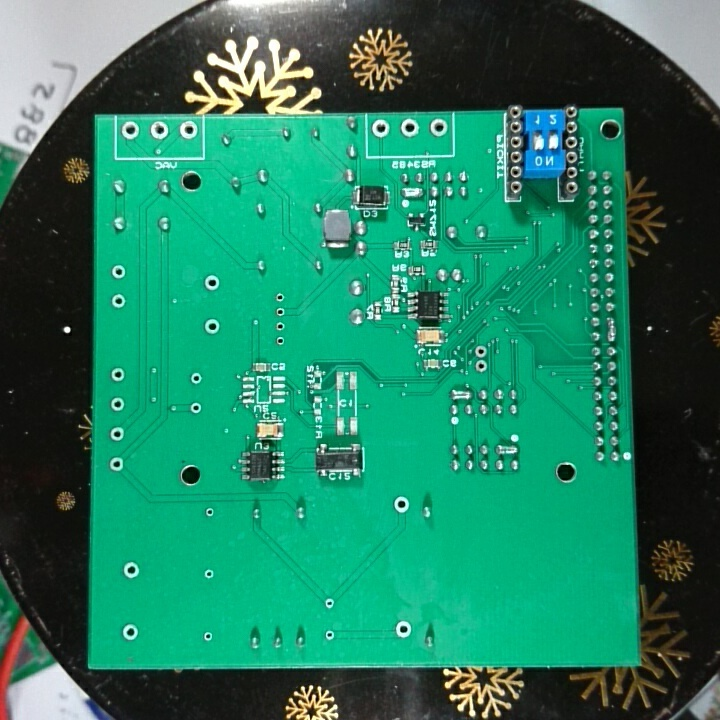F: (147, 120, 172, 144), (177, 118, 201, 143), (399, 116, 422, 140), (120, 559, 142, 583), (369, 116, 391, 140), (393, 618, 414, 641), (120, 120, 140, 143), (391, 494, 411, 516), (119, 622, 141, 642), (107, 366, 128, 386), (202, 317, 222, 338), (108, 263, 128, 283), (428, 118, 448, 138), (108, 424, 127, 445), (202, 272, 220, 293), (109, 291, 128, 310), (107, 455, 125, 475), (108, 395, 126, 415), (472, 358, 491, 375), (322, 595, 338, 612), (472, 343, 490, 358), (273, 333, 289, 349), (322, 626, 337, 643), (202, 566, 217, 583), (271, 304, 288, 319), (188, 400, 203, 416), (272, 290, 288, 305), (188, 370, 202, 387), (272, 319, 289, 333), (203, 504, 216, 522), (202, 629, 215, 644)
P: (399, 183, 425, 200), (448, 386, 474, 403), (605, 315, 619, 342), (494, 443, 522, 456)
